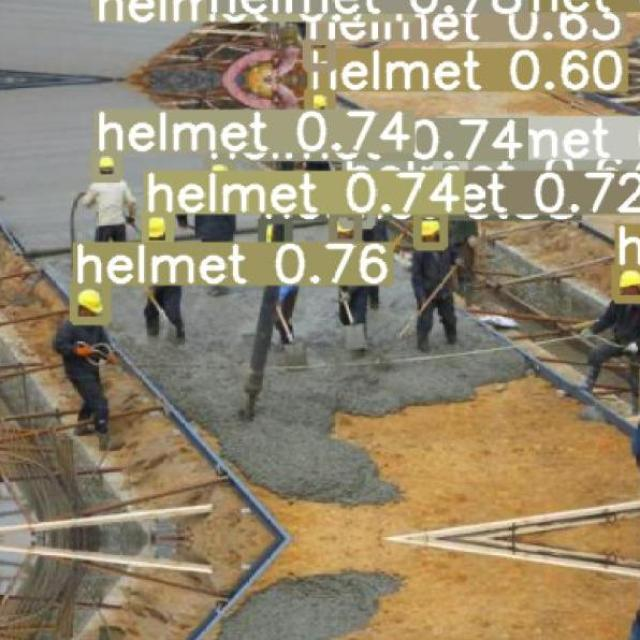yellow helmet: (77, 286, 103, 319), (423, 213, 442, 245), (622, 261, 640, 294), (150, 210, 167, 241), (310, 93, 328, 114), (101, 153, 117, 176)
